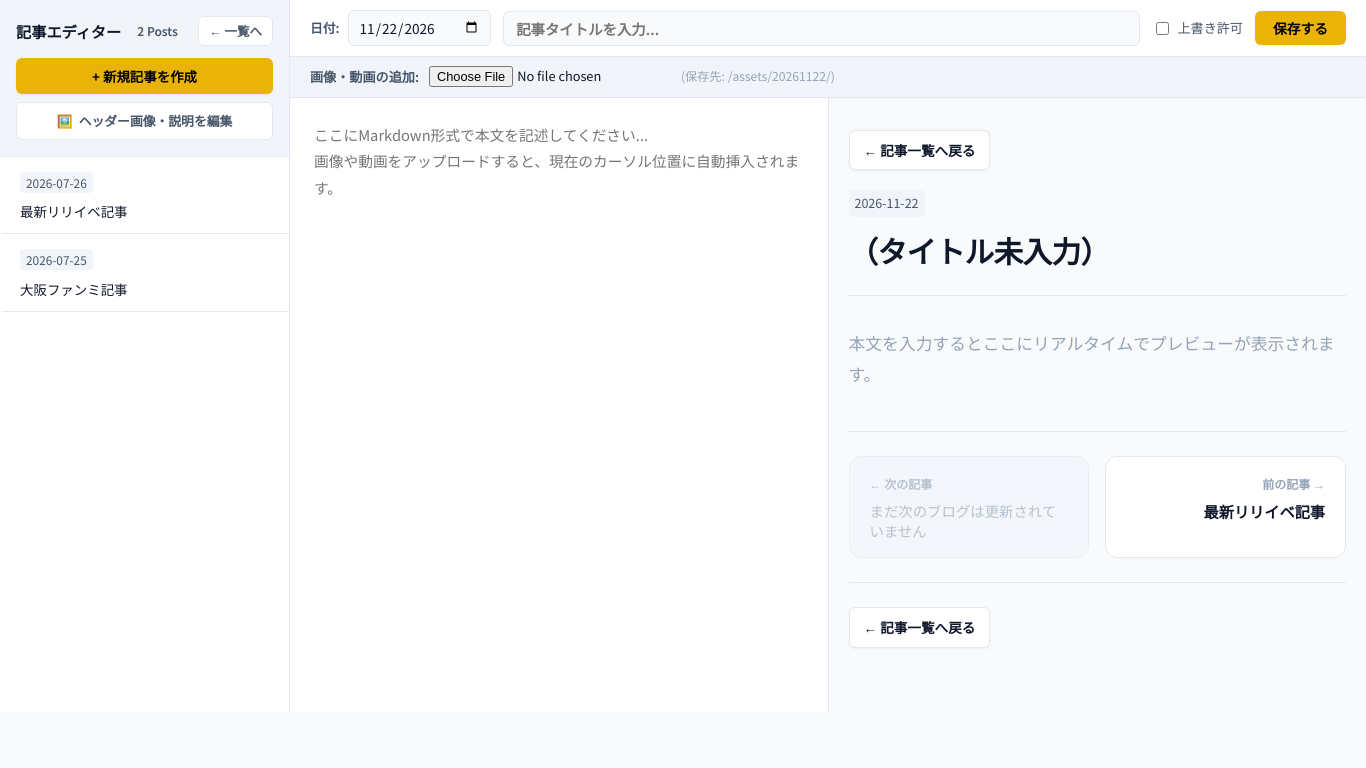
it: 04_ローカル記事エディター (/editor/) テスト › 04_記事エディター_03 サイドバーの記事をクリックすると該当記事の内容が読み込まれプレビューに反映されること
This screenshot has width=1366, height=768.
Expected: the text "2 Posts" is shown, [129,18,186,44]
Click the list item "2026-07-26 最新リリイベ記事". click: click(144, 196)
box: [0,156,289,234]
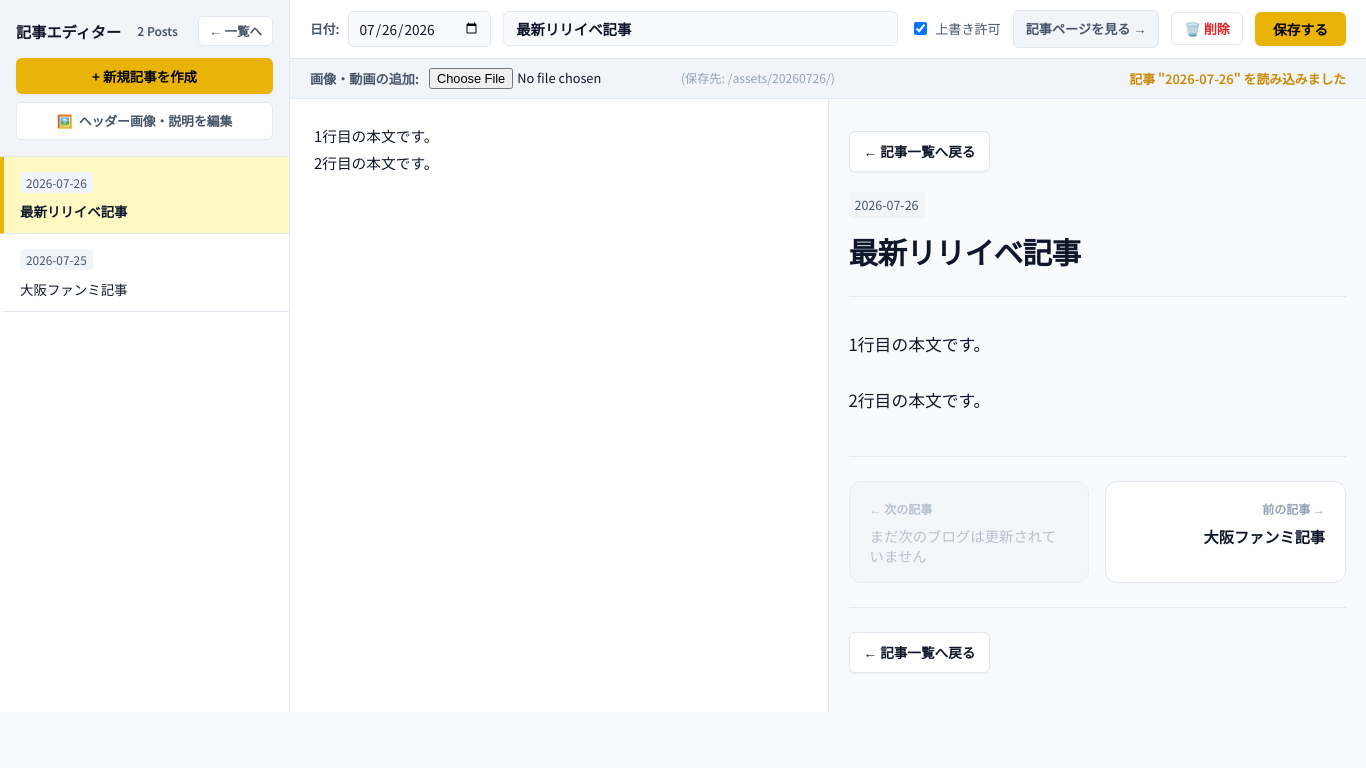
Result: the field showing "最新リリイベ記事" is shown at [503,11,898,46]
Result: the text "1行目の本文です。" is shown at [848,332,990,356]
Result: the text "2行目の本文です。" is shown at [848,388,990,412]
